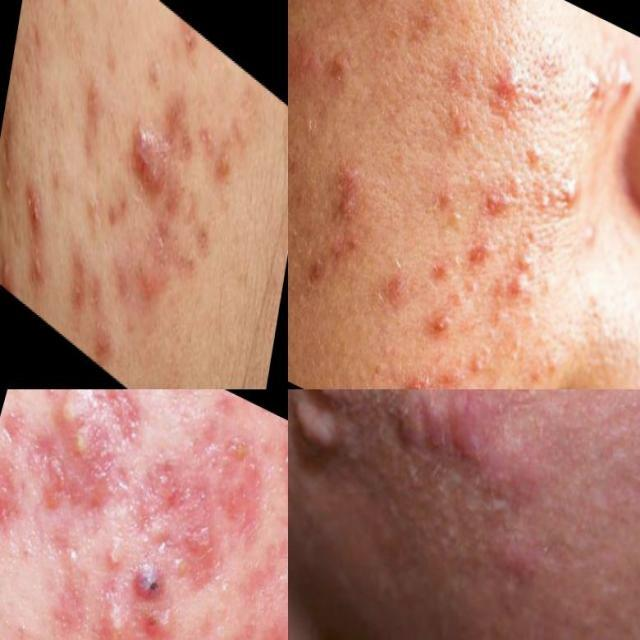Pimples: (145, 471, 241, 582), (34, 459, 116, 539), (288, 389, 352, 486), (118, 98, 173, 206), (220, 454, 275, 554), (489, 523, 553, 596), (0, 444, 34, 547), (322, 175, 374, 238), (500, 235, 542, 306), (546, 165, 592, 227), (485, 63, 528, 120), (0, 391, 34, 456), (418, 390, 458, 440), (132, 564, 173, 610), (381, 407, 417, 458), (134, 605, 183, 640), (426, 298, 459, 347), (99, 595, 131, 640), (288, 389, 363, 408), (98, 538, 128, 580), (128, 243, 150, 298), (66, 427, 94, 467), (222, 434, 249, 474), (57, 389, 86, 426), (0, 242, 18, 292), (0, 163, 16, 215), (172, 562, 188, 590)
